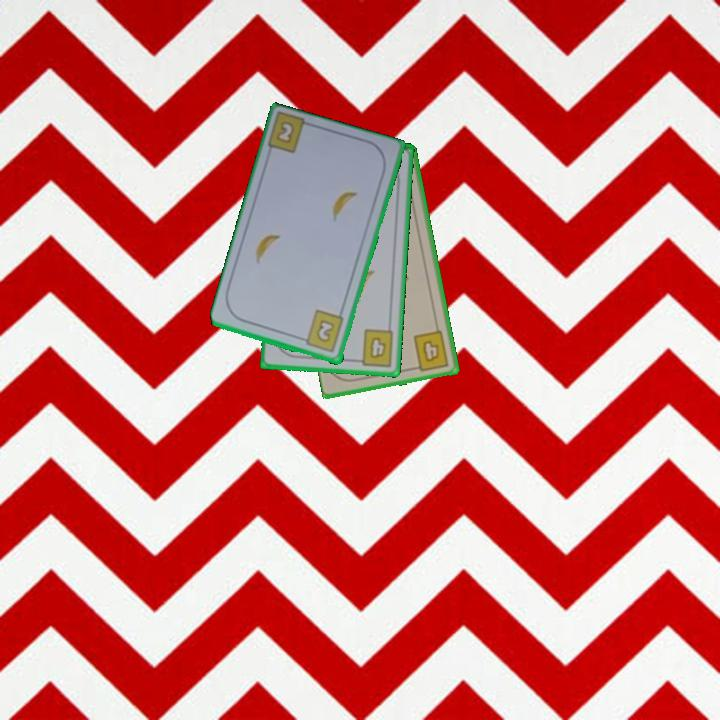2b: (297, 307, 347, 356), (273, 118, 297, 147)
4b: (409, 327, 452, 374), (351, 326, 397, 369)
